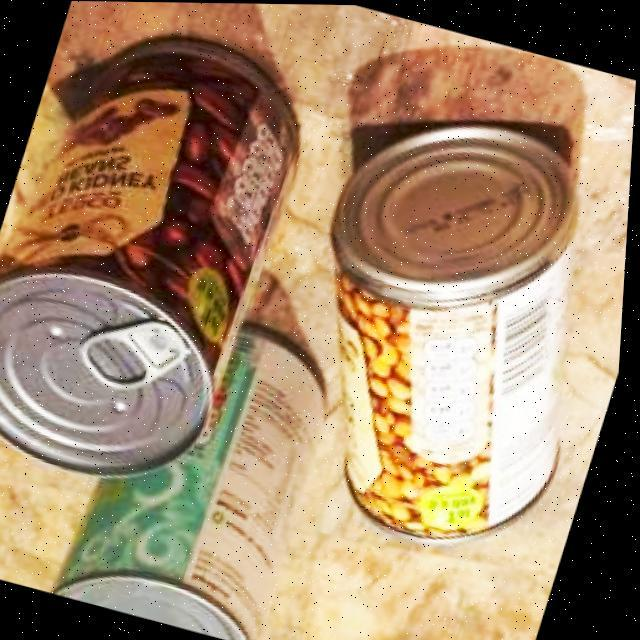Lata: (1, 40, 303, 481), (331, 126, 581, 545), (53, 336, 324, 640)
